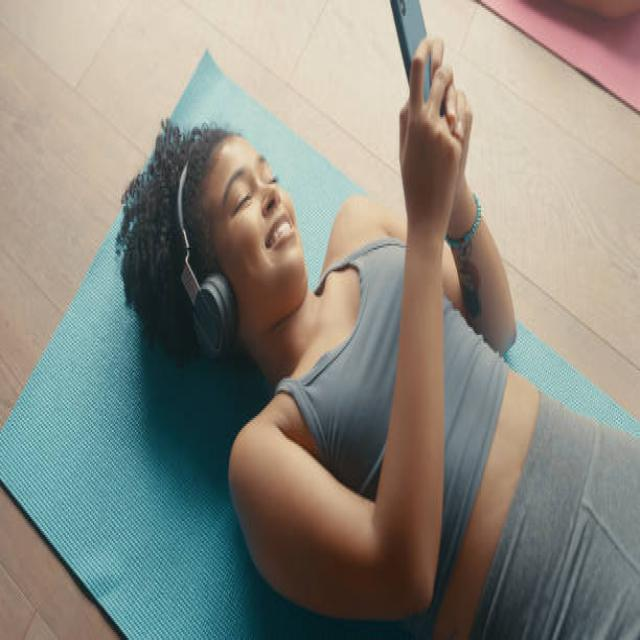Headphone: (174, 159, 238, 371)
